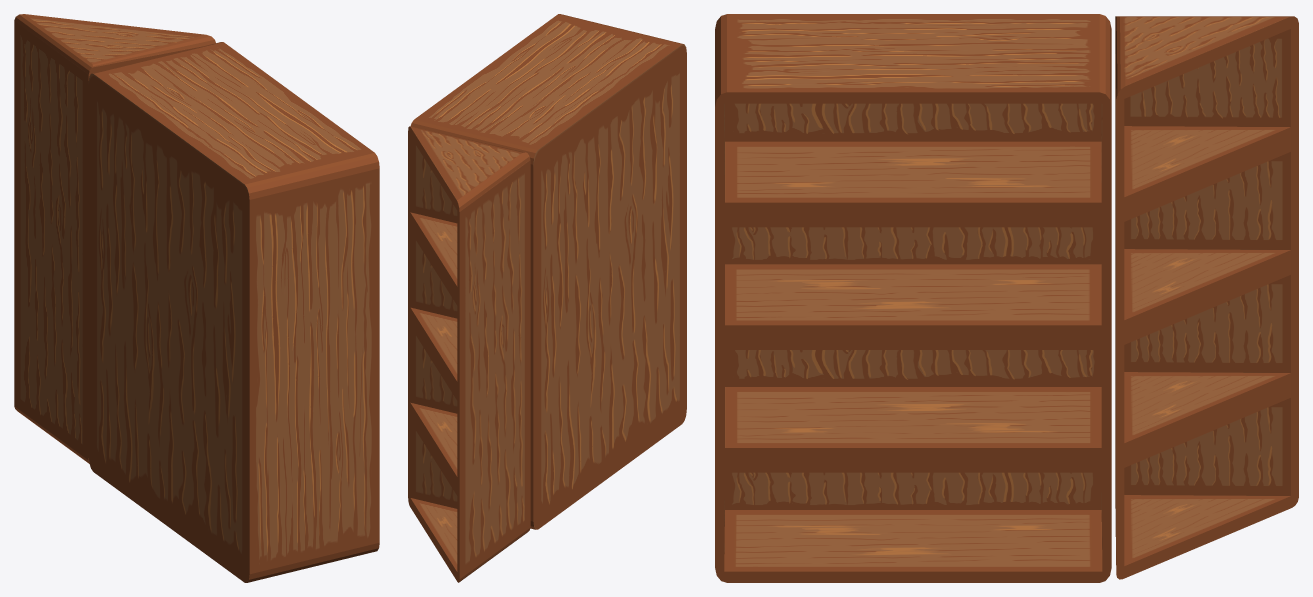
The model's file is Bookshelf_Set.fbx.
3 renders of one model, left to right at view 1: azimuth 30°, elevation 25°; view 2: azimuth 150°, elevation 25°; view 3: azimuth 270°, elevation 25°, orthographic. The views are drawn at different scales.
Parts seen in each view (by area): view 1: Shelf_1, Shelf_2; view 2: Shelf_1, Shelf_2; view 3: Shelf_1, Shelf_2.
Boxes of the visible parts, box(x1,y1,x2,y2) form: Shelf_1: box(88, 42, 379, 582); Shelf_2: box(14, 14, 215, 463); Shelf_1: box(410, 14, 686, 529); Shelf_2: box(408, 126, 530, 582); Shelf_1: box(715, 14, 1111, 582); Shelf_2: box(1115, 16, 1298, 579).
Size of the model in its own units: 57.87 by 170 by 182.
Materials: 2 (2 with a texture image).
